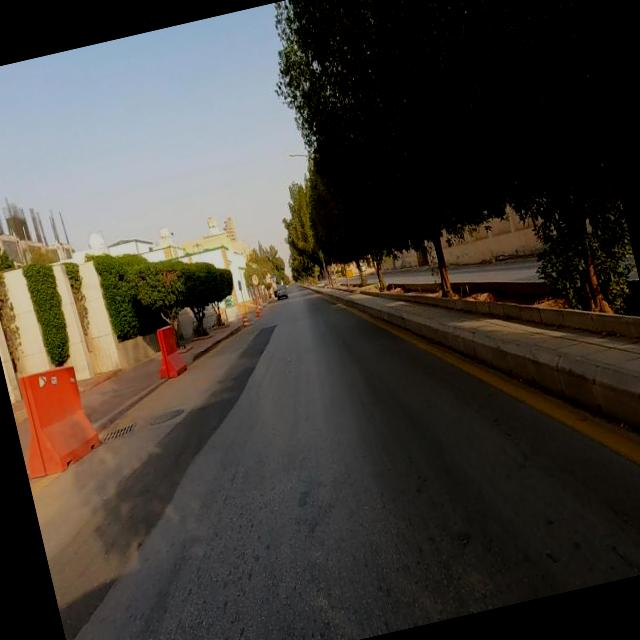debris: (232, 243, 279, 320)
